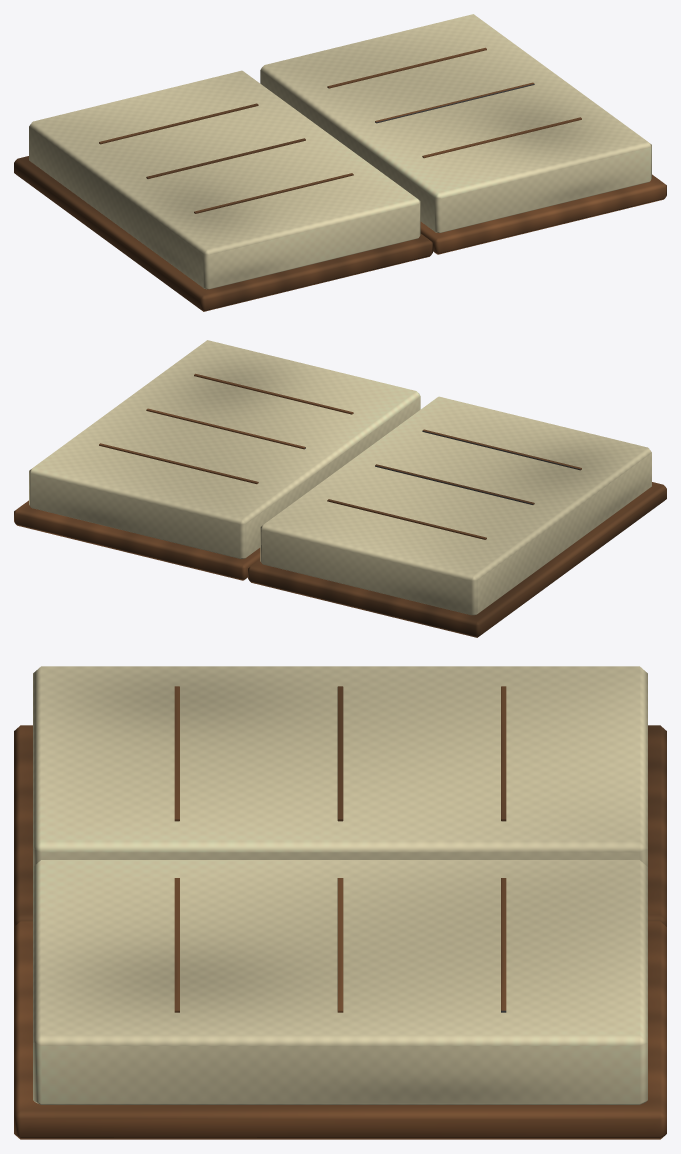
Rendered from Hold_BookOpen.fbx.
3 renders of one model, top to bottom at view 1: azimuth 30°, elevation 25°; view 2: azimuth 150°, elevation 25°; view 3: azimuth 270°, elevation 25°, orthographic. The views are drawn at different scales.
Parts seen in each view (by area): view 1: Hold_BookOpen; view 2: Hold_BookOpen; view 3: Hold_BookOpen.
Boxes of the visible parts, x1,y1,x2,y2 form: Hold_BookOpen: (14,14,666,311); Hold_BookOpen: (14,340,666,637); Hold_BookOpen: (14,666,666,1139).
Size of the model in its own units: 0.34 by 0.04 by 0.24.
1 material, 1 textured.
